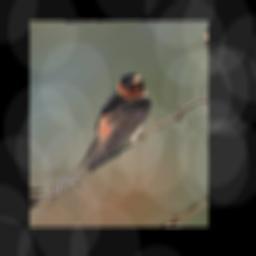Swallow: (54, 65, 165, 182)
